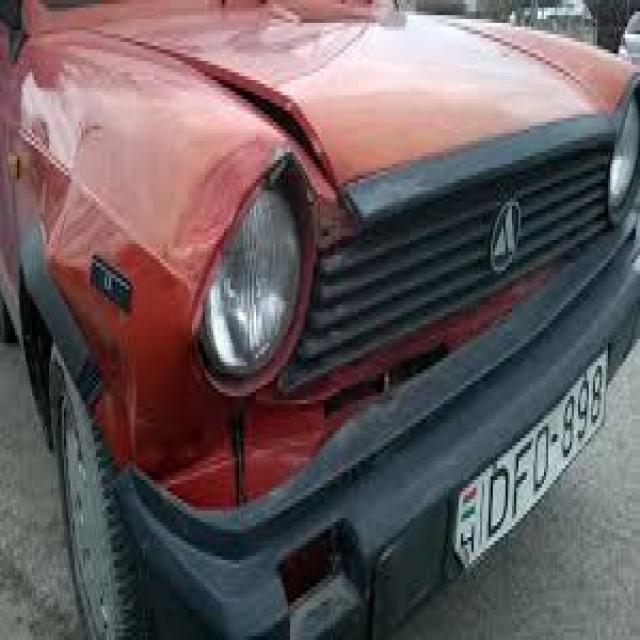minor: (200, 59, 378, 268)
